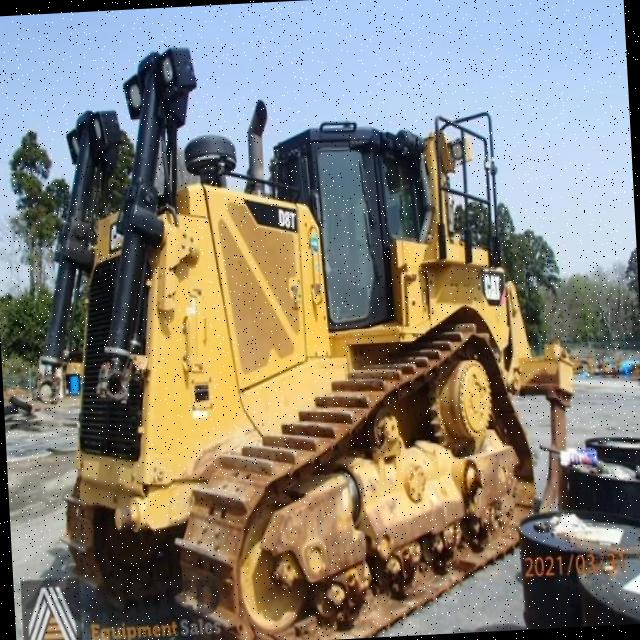Bulldozer: (19, 17, 588, 640)
